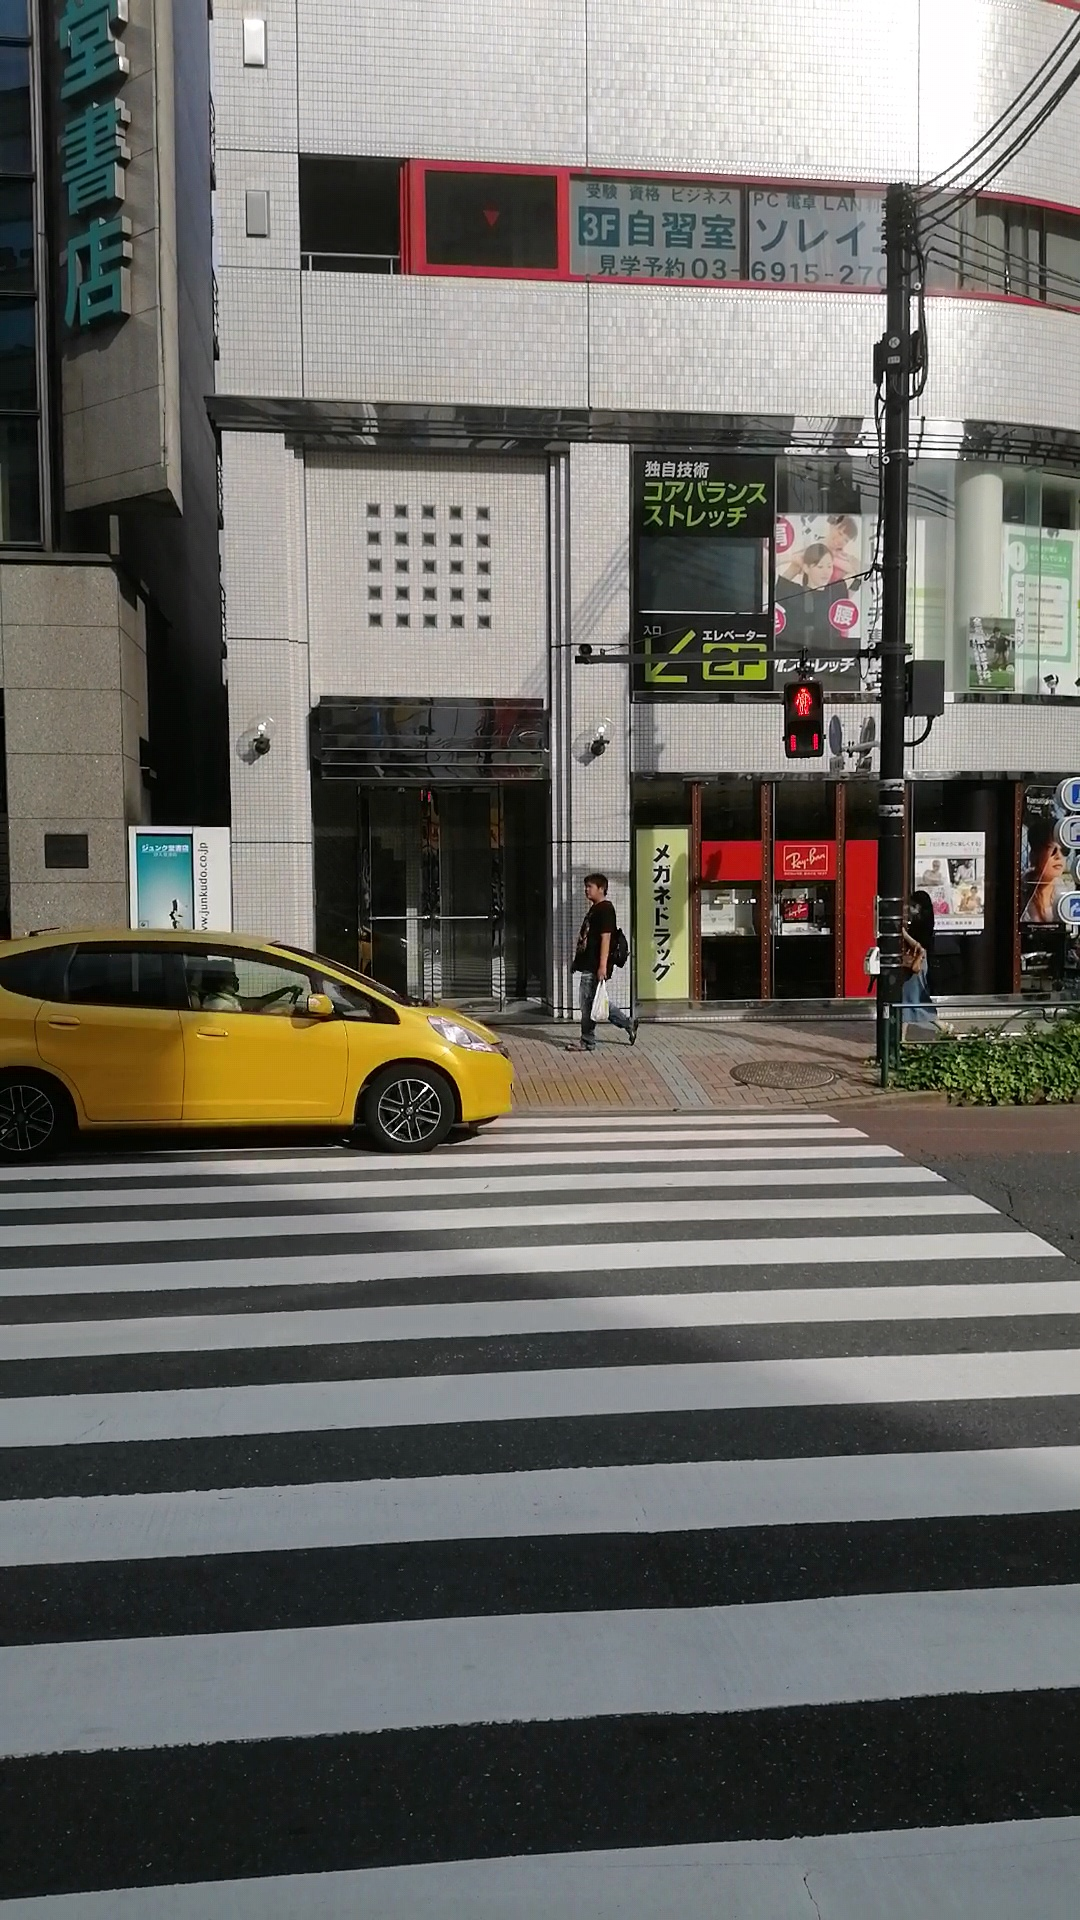red: (781, 682, 825, 757)
